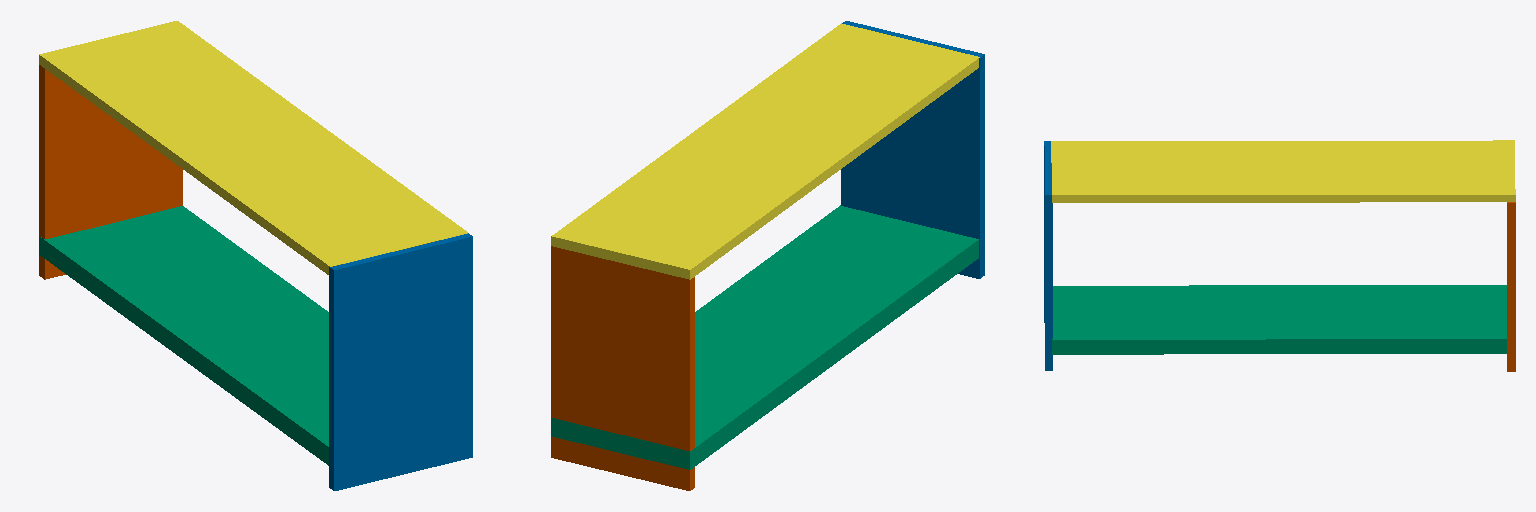
robot.urdf — iai_dishwasher:
<?xml version="1.0" ?>
<!-- =================================================================================== -->
<!-- |    This document was autogenerated by xacro from iai_kitchen_python.urdf.xacro  | -->
<!-- |    EDITING THIS FILE BY HAND IS NOT RECOMMENDED                                 | -->
<!-- =================================================================================== -->
<robot name="iai_dishwasher">
  <!--- FIXME THIS should NOT be here -->
  <!--
      <link name="map">
      
      <sphere_inertia radius="0" mass="0"/>
      </link>
      <iai_drawer_60_14 name="drawer_1" parent="map">
      <origin rpy="0 0 0" xyz="0 0 1"/>
      </iai_drawer_60_14>
      
      <iai_drawer_80_14 name="drawer_2" parent="map">
      <origin rpy="0 0 0" xyz="0 0 2"/>
      </iai_drawer_80_14>
      
      <iai_drawer_60_29 name="drawer_3" parent="map">
      <origin rpy="0 0 0" xyz="0 0 3"/>
      </iai_drawer_60_29>
      
      <iai_drawer_80_29 name="drawer_4" parent="map">
      <origin rpy="0 0 0" xyz="0 0 4"/>
      </iai_drawer_80_29>
      
      <iai_drawer_100_29 name="drawer_5" parent="map">
      <origin rpy="0 0 0" xyz="0 0 5"/>
      </iai_drawer_100_29>
  -->
   <link name="odom_combined">
    <inertial>
      <origin rpy="0 0 0" xyz="0.0 0.0 0.0"/>
      <mass value="1"/>
      <inertia ixx="1" ixy="0.0" ixz="0.0" iyy="1" iyz="0.0" izz="1"/>
    </inertial>
  </link>
  <link name="world"/>
  <joint name="world_room_joint" type="fixed">
    <origin rpy="0 0 0" xyz="0.0 0.0 0 "/>
    <parent link="world"/>
    <child link="odom_combined"/>
  </joint>
  <link name="sink_area_bottom">
    <visual>
      <geometry>
        <box size="0.59 2.14 0.076"/>
      </geometry>
    </visual>
    <collision>
      <geometry>
        <box size="0.59 2.14 0.076"/>
      </geometry>
    </collision>
  </link>

  <link name="sink_area_top">
    <visual>
      <geometry>
        <box size="0.59 2.14 0.04"/>
      </geometry>
    </visual>
    <collision>
      <geometry>
        <box size="0.59 2.14 0.04"/>
      </geometry>
    </collision>
  </link>

  <link name="sink_area_right">
    <visual>
      <geometry>
        <box size="0.59 0.04 0.898"/>
      </geometry>
    </visual>
    <collision>
      <geometry>
        <box size="0.59 0.04 0.898"/>
      </geometry>
    </collision>
  </link>
  <link name="sink_area_left">
    <visual>
      <geometry>
        <box size="0.59 0.04 0.86"/>
      </geometry>
    </visual>
    <collision>
      <geometry>
        <box size="0.59 0.04 0.86"/>
      </geometry>
    </collision>
  </link>



  <link name="sink_area_dish_washer_main">
    <inertial>
      <origin rpy="0 0 0" xyz="0.0 0.0 0.0"/>
      <mass value="1"/>
      <inertia ixx="1" ixy="0.0" ixz="0.0" iyy="1" iyz="0.0" izz="1"/>
    </inertial>
    <visual>
      <origin rpy="0 0 0" xyz="0 0 0"/>
      <geometry>
        <mesh filename="package://mujoco_sim/model/partial_kitchen/assets/DishWasher.dae"/>
      </geometry>
    </visual>
    <collision>
      <origin rpy="1.57079 0 0" xyz="0 0 0"/>
      <geometry>
        <mesh filename="package://mujoco_sim/model/partial_kitchen/assets/dishwasher.stl"/>
      </geometry>
    </collision>
  </link>
   <link name="sink_area_dish_washer_door">
    <inertial>
      <origin rpy="0 0 0" xyz="0.0 0.0 0.0"/>
      <mass value="1"/>
      <inertia ixx="1" ixy="0.0" ixz="0.0" iyy="1" iyz="0.0" izz="1"/>
    </inertial>
    <visual>
      <origin rpy="1.5707963267948966 0 0" xyz="0 0 0"/>
      <geometry>
        <mesh filename="package://mujoco_sim/model/partial_kitchen/assets/DishWasherDoor.dae"/>
      </geometry>
    </visual>
    <collision>
      <origin rpy="0 0 0" xyz="0 -0.31 0.0"/>
      <geometry>
        <box size="0.02 0.67 0.51"/>
        <!-- <mesh filename="package://mujoco_sim/model/partial_kitchen/assets/dishwasher_door.stl"/> -->
      </geometry>
    </collision>
  </link>
  <link name="sink_area_dish_washer_door_handle">
    <inertial>
      <origin rpy="0 0 0" xyz="0.0 0.0 0.0"/>
      <mass value="1"/>
      <inertia ixx="1" ixy="0.0" ixz="0.0" iyy="1" iyz="0.0" izz="1"/>
    </inertial>
    <visual>
      <origin rpy="0 0 0" xyz="0 0 0"/>
      <geometry>
        <mesh filename="package://iai_kitchen/meshes/handles/Handle60.dae"/>
      </geometry>
    </visual>
    <collision>
      <origin rpy="0 0 0" xyz="0 0 0"/>
      <geometry>
        <mesh filename="package://mujoco_sim/model/partial_kitchen/assets/handle60_rot.stl"/>
      </geometry>
    </collision>
  </link>
    
    <joint name="sink_area_bottom_joint" type="fixed">
        <origin rpy="0 0 -3.14" xyz="1.565 0.3 0.045"/>
        <parent link="odom_combined"/>
        <child link="sink_area_bottom"/>
    </joint>

    <joint name="sink_area_top_joint" type="fixed">
        <origin rpy="0 0 -3.14" xyz="1.565 0.3 0.8"/>
        <parent link="odom_combined"/>
        <child link="sink_area_top"/>
    </joint>

    <joint name="sink_area_right_joint" type="fixed">
        <origin rpy="0 0 -3.14" xyz="1.565 -0.782 0.37"/>
        <parent link="odom_combined"/>
        <child link="sink_area_right"/>
   </joint>

    <joint name="sink_area_left_joint" type="fixed">
        <origin rpy="0 0 -3.14" xyz="1.565 1.35 0.35"/>
        <parent link="odom_combined"/>
        <child link="sink_area_left"/>
   </joint>


    <joint name="sink_area_dish_washer_main_joint" type="fixed">
        <origin rpy="0 0 -3.1415" xyz="1.555 0.2 0.42"/>
        <parent link="odom_combined"/>
        <child link="sink_area_dish_washer_main"/>
    </joint>

    <joint name="sink_area_dish_washer_door_joint" type="revolute">
        <origin rpy="-1.5707963267948966 0 0" xyz="0.28 0 -0.305"/>
        <parent link="sink_area_dish_washer_main"/>
        <child link="sink_area_dish_washer_door"/>
        <axis xyz="0 0 1"/>
        <!--
        <limit lower="0" upper="${0.5*pi}" effort="300" velocity="10"/>
        -->
        <limit effort="300" lower="0" upper="1.5707963267948966" velocity="10"/>
    </joint>

    <joint name="sink_area_dish_washer_door_handle_joint" type="fixed">
        <origin rpy="-1.5707963267948966 0 0" xyz="0.073 -0.58 0"/>
        <parent link="sink_area_dish_washer_door"/>
        <child link="sink_area_dish_washer_door_handle"/>
  </joint>
</robot>

--- Facts derived from the render (not from the file) ---
Views: 3 orthographic renders of the robot side by side, from view 1: azimuth 30°, elevation 25°; view 2: azimuth 150°, elevation 25°; view 3: azimuth 270°, elevation 25°.
Robot: iai_dishwasher — 9 links, 8 joints (1 revolute, 7 fixed); root link world; default pose: every joint at zero.
Visible links, largest first — view 1: sink_area_top, sink_area_bottom, sink_area_right, sink_area_left; view 2: sink_area_top, sink_area_bottom, sink_area_left, sink_area_right; view 3: sink_area_bottom, sink_area_top, sink_area_right, sink_area_left.
Boxes of the visible links, box(x1,y1,x2,y2) form: sink_area_top: box(39, 21, 467, 274); sink_area_bottom: box(39, 206, 328, 465); sink_area_right: box(329, 233, 472, 490); sink_area_left: box(39, 65, 182, 279); sink_area_top: box(551, 23, 979, 279); sink_area_bottom: box(551, 205, 978, 469); sink_area_left: box(551, 246, 694, 490); sink_area_right: box(841, 21, 984, 278); sink_area_bottom: box(1052, 285, 1506, 354); sink_area_top: box(1051, 140, 1515, 202); sink_area_right: box(1044, 141, 1052, 370); sink_area_left: box(1507, 202, 1515, 371).
Bounding box of the posed robot: 0.5934 × 2.17 × 0.9 m (x, y, z).
0 mesh visuals loaded from 3 distinct referenced files (none loaded); not drawn: 3 (reference not matched to a file when rendering).